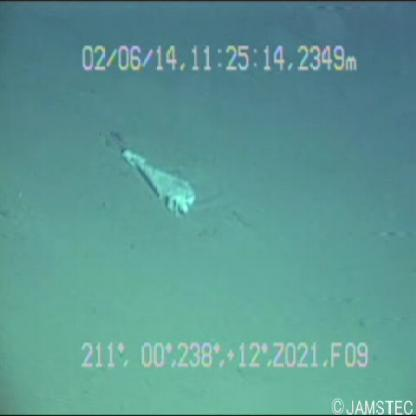Rác: (103, 122, 199, 226)
